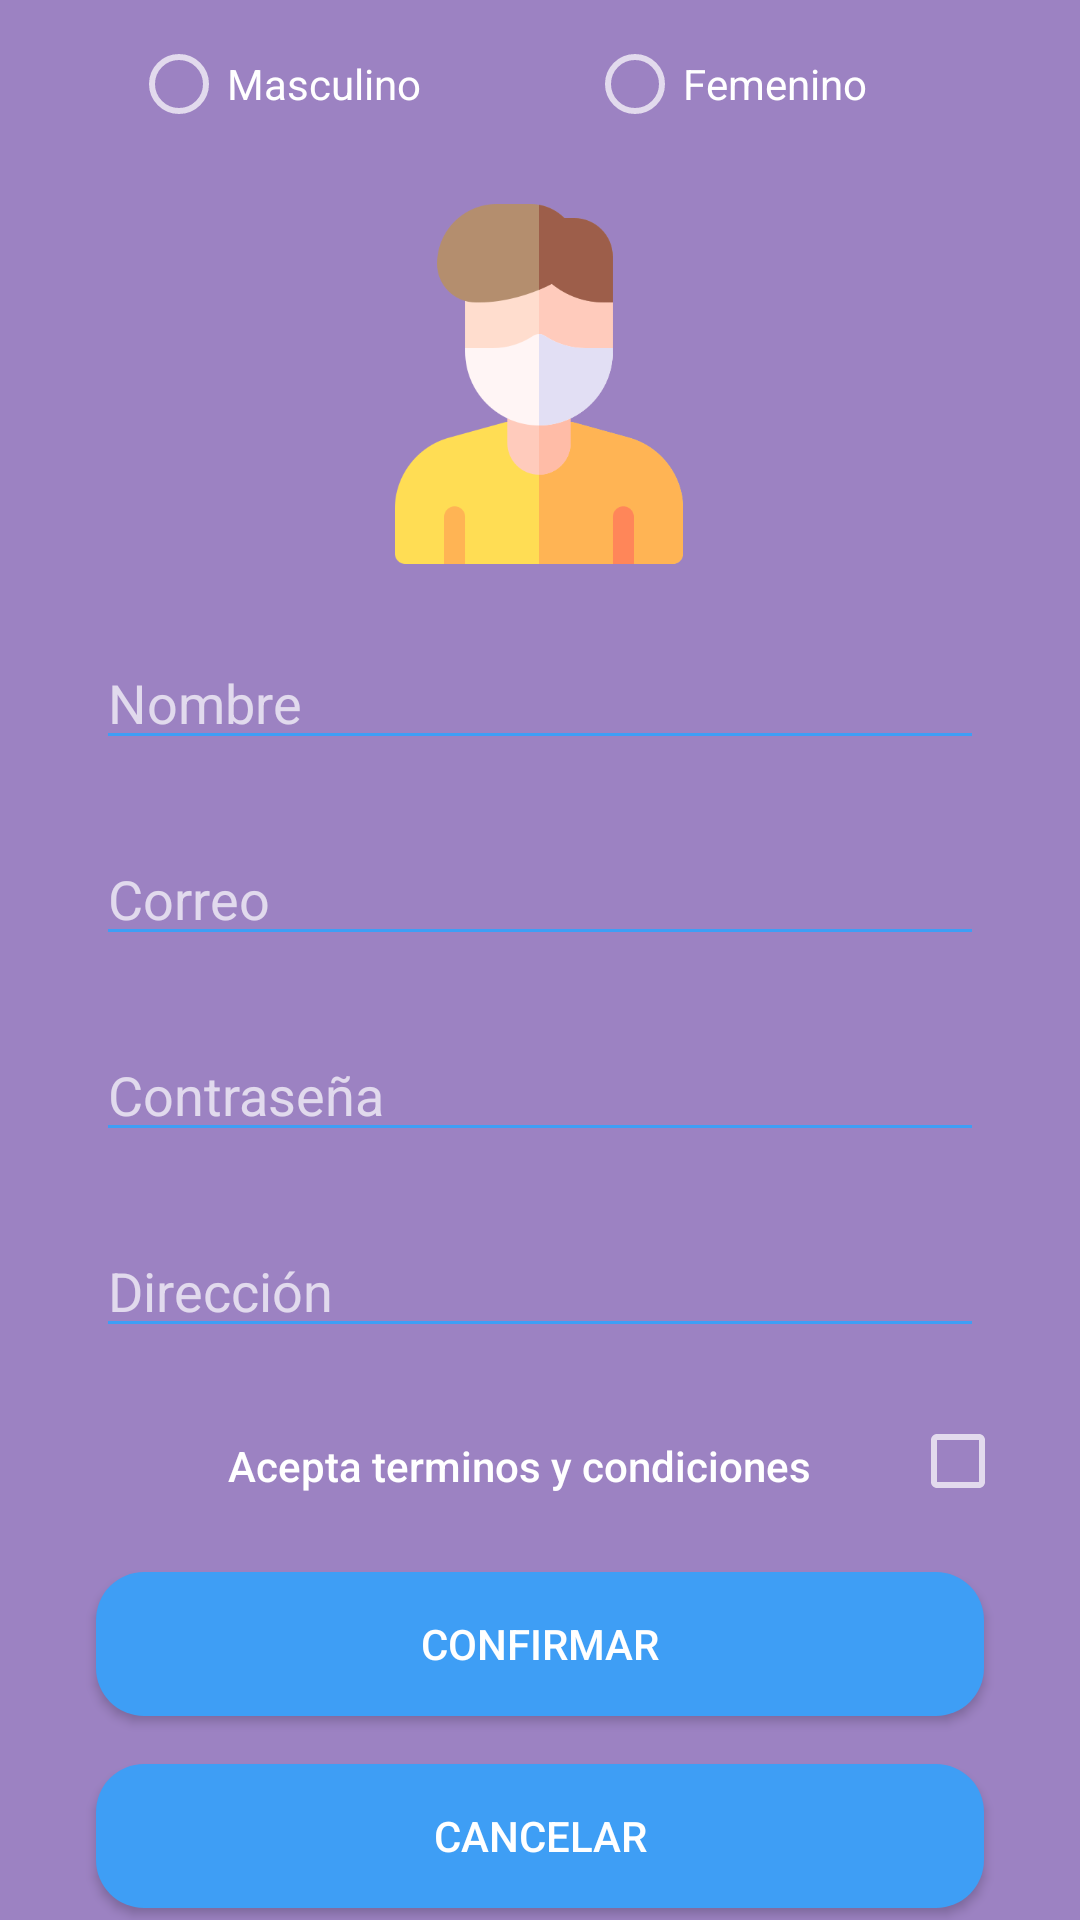

Icons on this 1080x1920 Android screen, each with its box as (x1, y1, x2, y2):
hombre: (395, 204, 683, 564)
